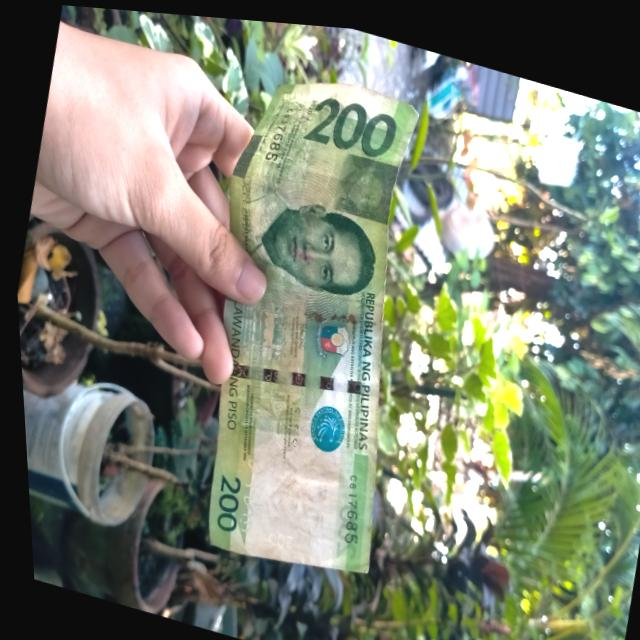concealed_value: (325, 143, 401, 225)
security_thread: (212, 331, 378, 414)
value: (292, 79, 404, 168)
watermark: (239, 426, 353, 548)
